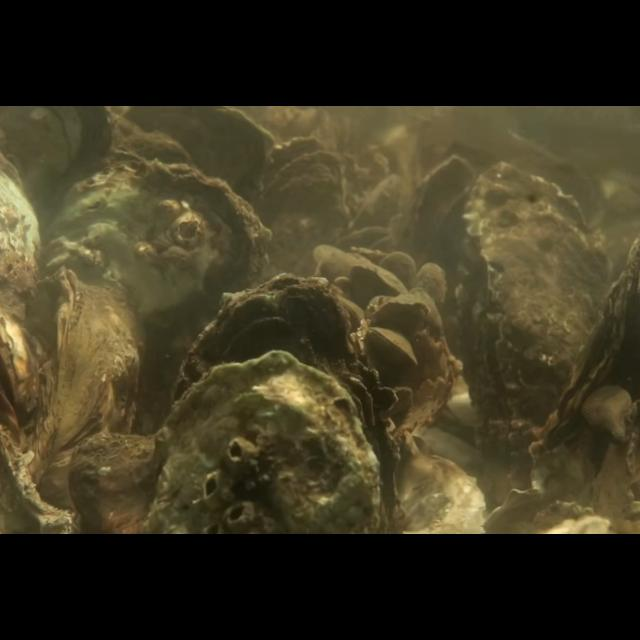Oyster-Closed: (42, 157, 270, 430), (166, 273, 398, 535), (144, 351, 382, 535), (29, 264, 141, 534), (120, 106, 278, 212), (0, 106, 116, 227), (68, 432, 158, 534), (392, 452, 488, 534), (0, 151, 44, 324), (345, 262, 405, 298), (378, 249, 418, 297), (373, 296, 431, 328), (414, 262, 448, 314), (312, 242, 358, 274)
Oyster-Open: (454, 160, 610, 456), (522, 234, 640, 502), (254, 136, 350, 272), (398, 154, 476, 310), (0, 314, 46, 446), (482, 488, 594, 534), (368, 325, 417, 367)
